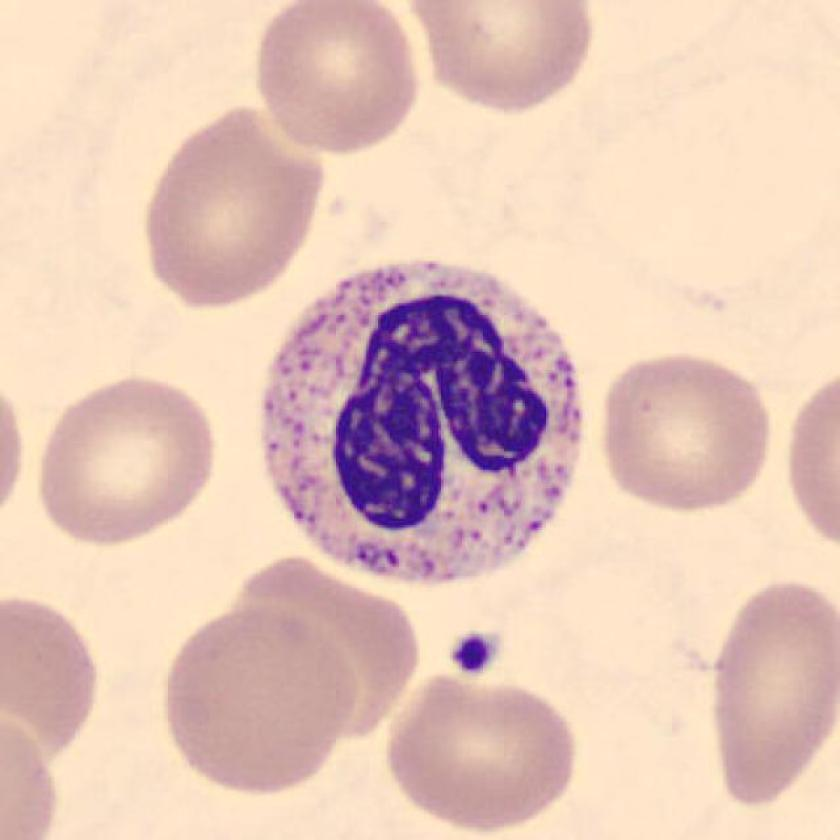neutrophil: (260, 262, 581, 580)
